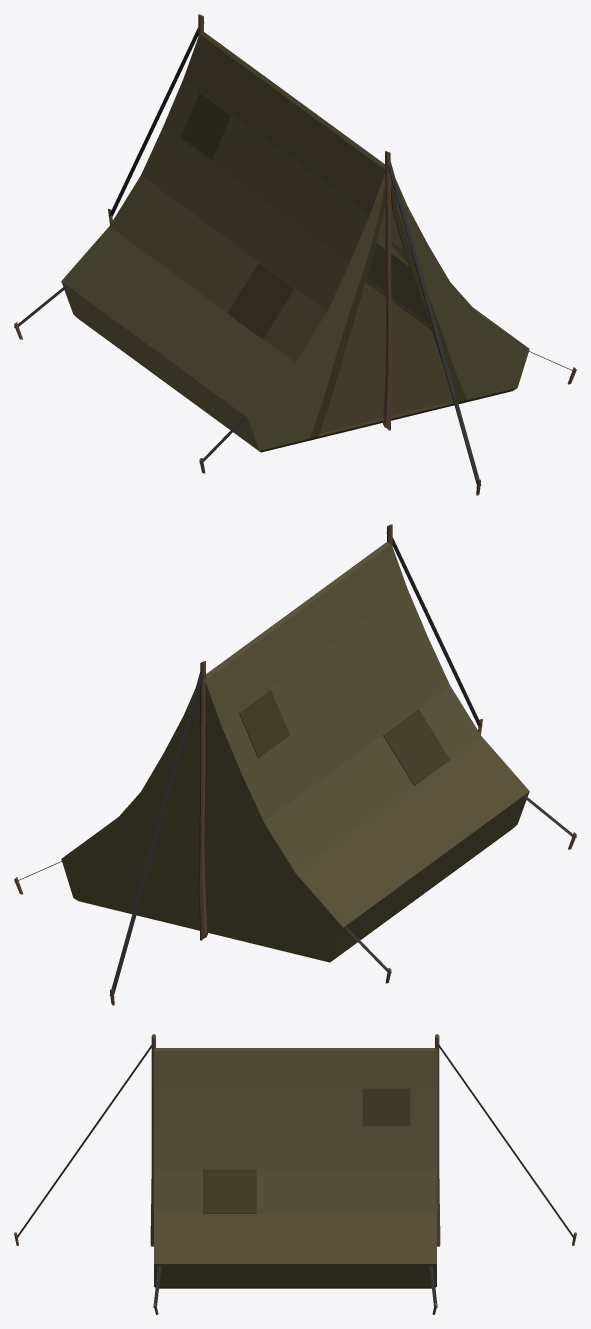
File: Tent.glb
3 views of the same model, one above another, from view 1: azimuth 30°, elevation 25°; view 2: azimuth 150°, elevation 25°; view 3: azimuth 270°, elevation 25° (orthographic). The views are drawn at different scales.
Parts seen in each view (by area): view 1: Tent; view 2: Tent; view 3: Tent.
Part boxes in pixels (box(x1,y1,x2,y2)): Tent: box(14, 14, 576, 495); Tent: box(14, 524, 576, 1005); Tent: box(14, 1034, 576, 1314).
Size of the model in its own units: 14.58 by 10.32 by 24.87.
